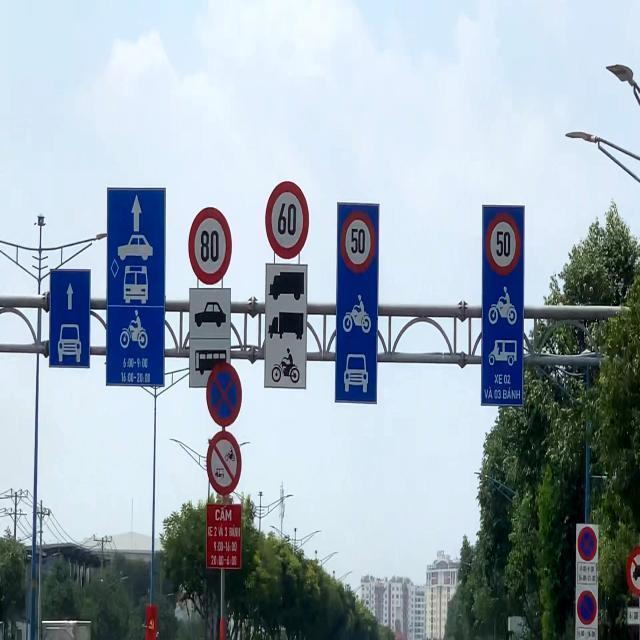127-toc-do-toi-da-50: (339, 214, 379, 270), (490, 215, 523, 270)
127-toc-do-toi-da-60: (188, 204, 236, 285), (262, 179, 310, 256)
130-cam-dung-va-do-xe: (204, 367, 248, 425), (576, 587, 598, 625), (578, 525, 596, 561)
